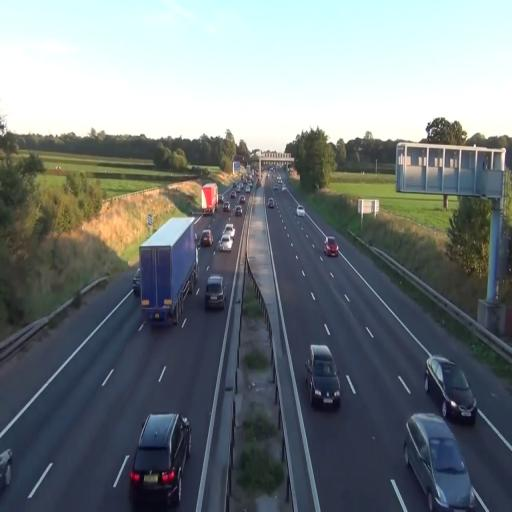vehicle: (404, 411, 488, 512), (140, 214, 198, 328), (129, 411, 192, 508), (424, 354, 478, 425), (306, 345, 341, 410), (205, 276, 225, 311), (202, 183, 218, 215), (218, 222, 235, 252), (324, 237, 339, 257), (198, 227, 213, 247)
